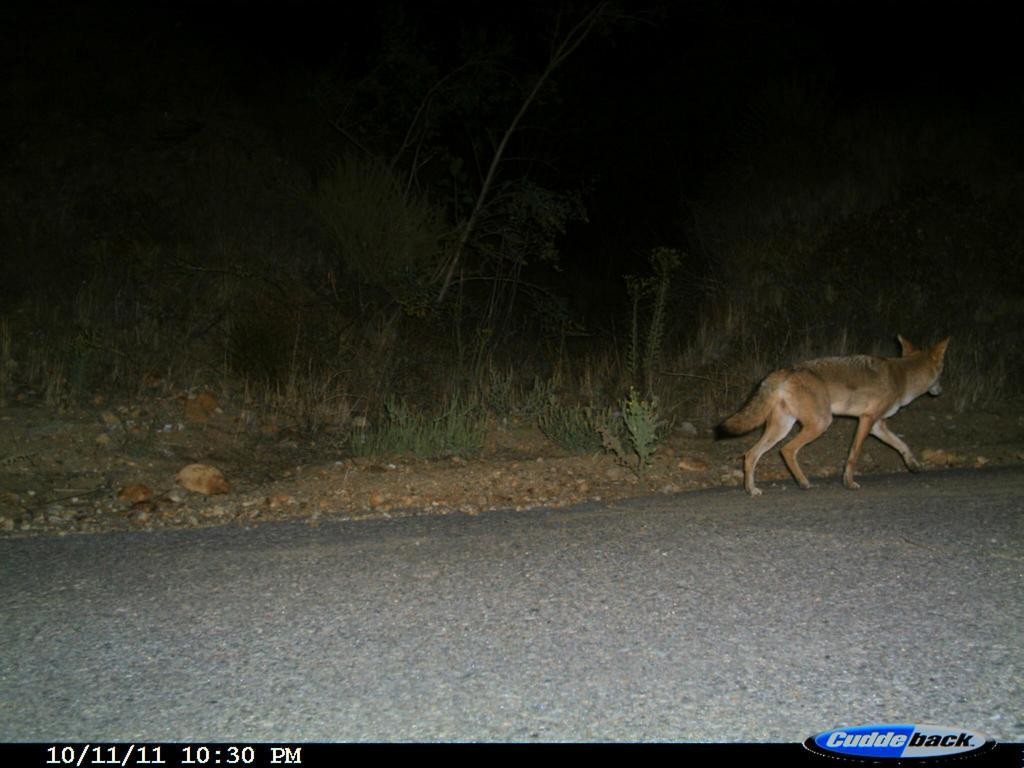coyote: (701, 329, 963, 505)
